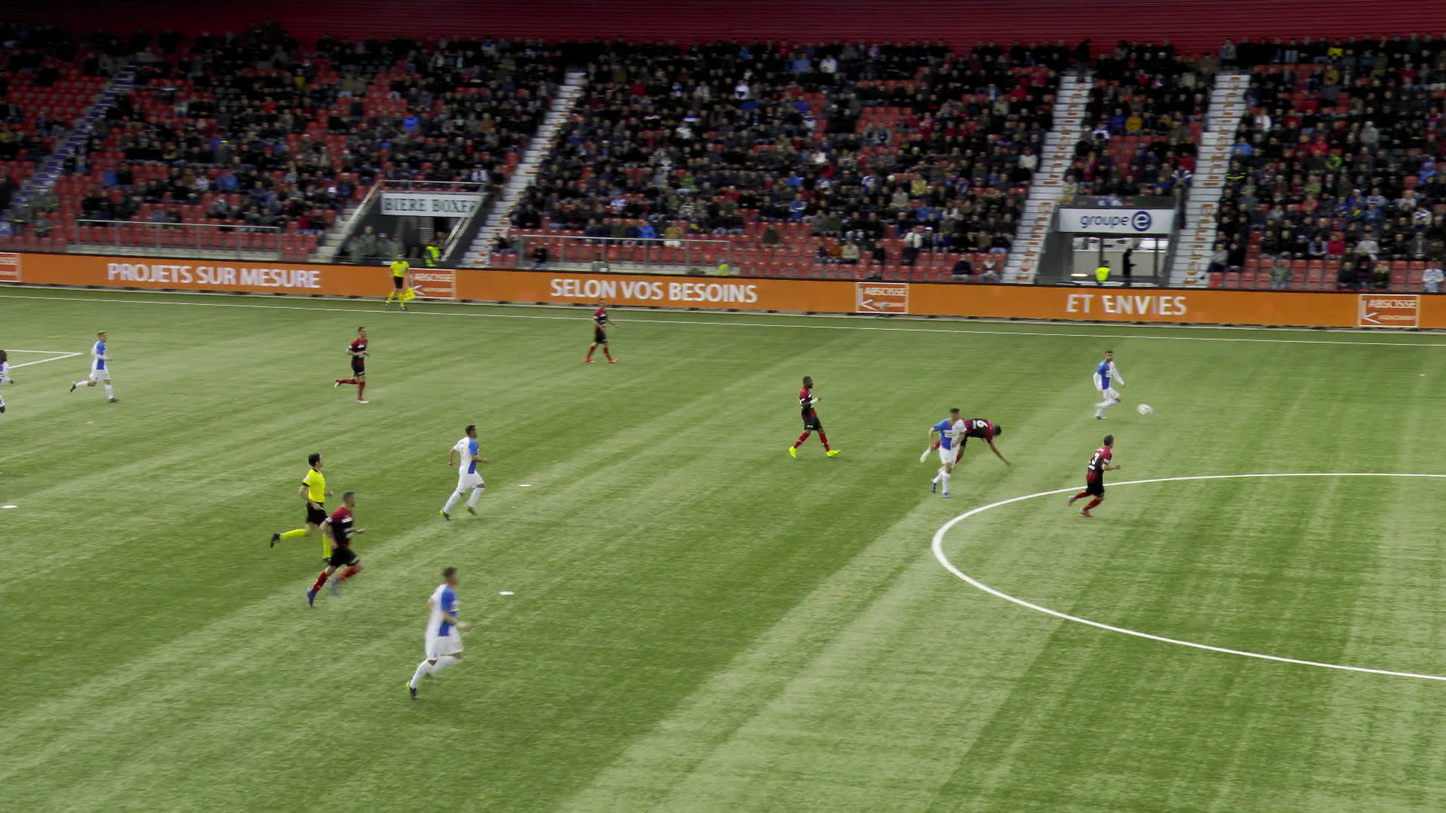ball: (1137, 404, 1151, 414)
player: (404, 564, 472, 699), (306, 489, 366, 608), (919, 417, 1011, 473), (438, 425, 489, 519), (1066, 434, 1120, 516), (788, 376, 840, 459), (69, 330, 119, 403), (929, 407, 967, 498), (332, 326, 371, 403), (1091, 349, 1125, 419), (583, 297, 618, 362), (0, 347, 15, 418)
referee: (270, 452, 334, 562), (384, 253, 415, 310)
